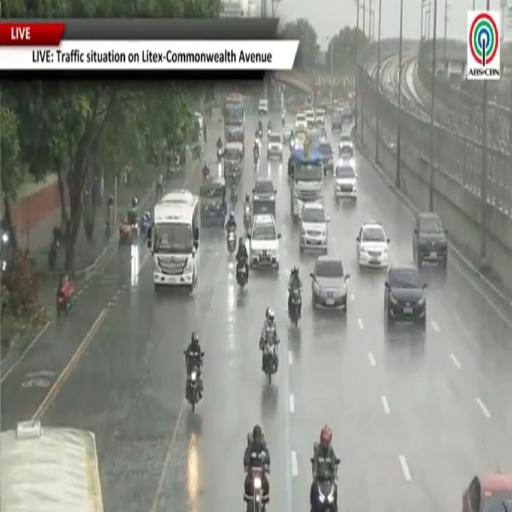bus: (0, 421, 103, 511), (148, 190, 200, 291), (224, 93, 245, 126)
car: (384, 265, 426, 328), (310, 255, 349, 311), (462, 473, 511, 511), (248, 215, 281, 270), (414, 213, 447, 268), (357, 220, 389, 268), (300, 203, 329, 252), (333, 159, 357, 200), (253, 178, 276, 216), (319, 142, 333, 174), (268, 133, 282, 161), (339, 134, 353, 157), (331, 110, 342, 132), (307, 128, 320, 146), (295, 114, 307, 132), (282, 124, 294, 142), (314, 109, 326, 126), (306, 109, 315, 129), (258, 99, 268, 116), (194, 112, 203, 130)
motorcycle: (311, 474, 337, 511), (264, 329, 279, 385), (312, 478, 337, 511), (246, 468, 265, 511), (186, 366, 200, 412), (57, 282, 74, 317), (289, 287, 301, 326), (48, 239, 59, 271), (237, 259, 248, 289), (140, 216, 150, 243), (243, 204, 251, 233), (227, 230, 236, 254), (230, 181, 238, 206), (131, 221, 139, 243), (253, 145, 260, 166), (255, 135, 261, 151), (217, 148, 223, 163), (202, 167, 209, 179), (289, 138, 295, 152), (258, 128, 262, 139), (267, 130, 271, 139)
truck: (291, 146, 324, 221)
